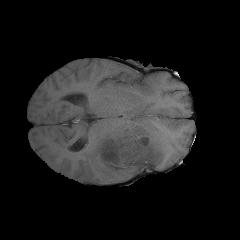glioma: (66, 117, 175, 183)
